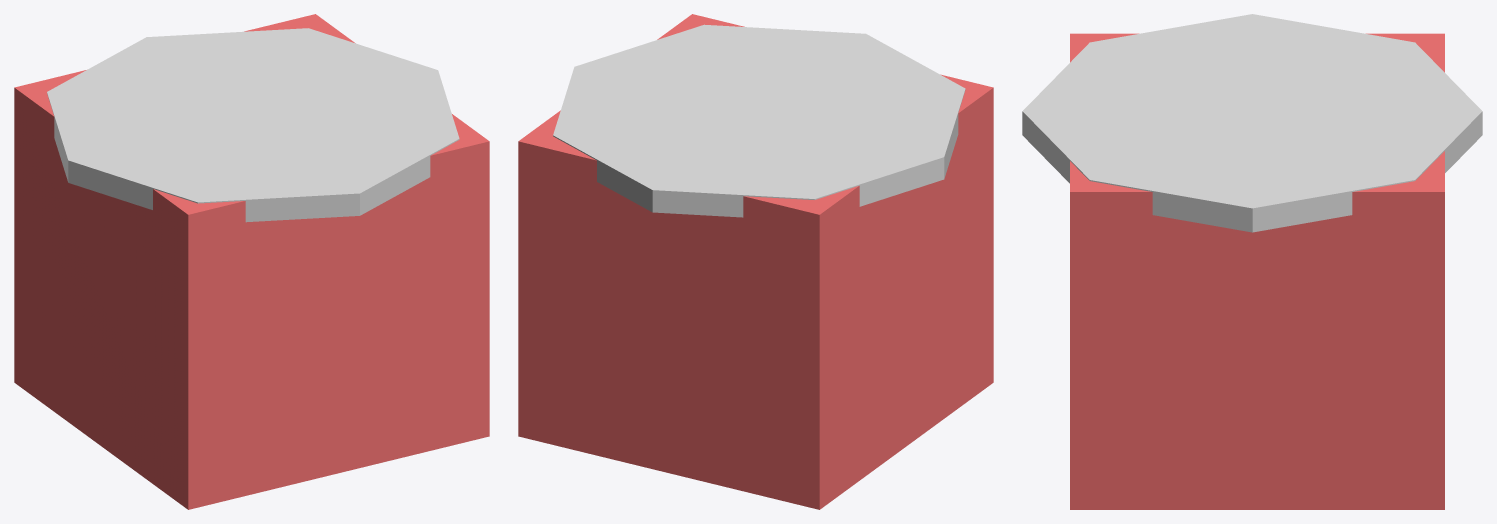
Rendered from prop_table_02.glb.
The picture shows the model from 3 angles, left to right: view 1: azimuth 30°, elevation 25°; view 2: azimuth 150°, elevation 25°; view 3: azimuth 270°, elevation 25°; orthographic projection. The views are drawn at different scales.
Parts seen in each view (by area): view 1: brush_box.019, prop_table_02; view 2: brush_box.019, prop_table_02; view 3: brush_box.019, prop_table_02.
Part boxes in pixels (left/top/right/bottom): brush_box.019: left=14, top=14, right=489, bottom=509; prop_table_02: left=47, top=28, right=459, bottom=222; brush_box.019: left=518, top=14, right=993, bottom=509; prop_table_02: left=553, top=24, right=965, bottom=217; brush_box.019: left=1070, top=33, right=1444, bottom=509; prop_table_02: left=1022, top=14, right=1482, bottom=232.
Bounding box in the file's own units: 1.23 × 0.9392 × 1.23.
